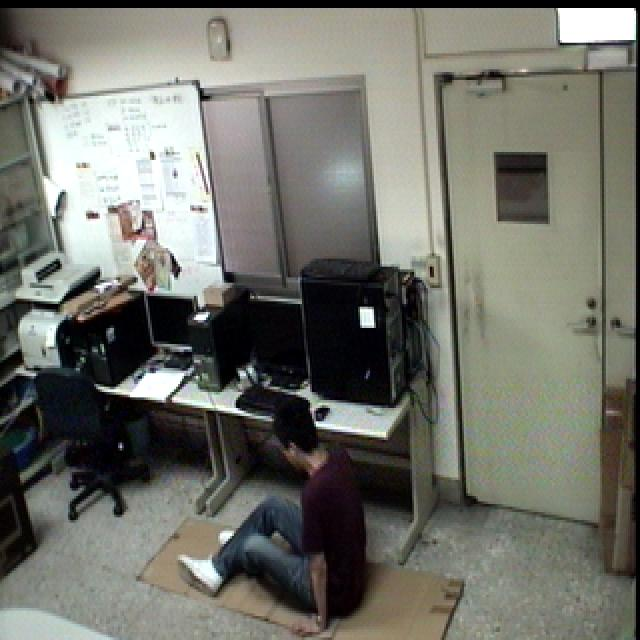sit: (173, 388, 375, 640)
